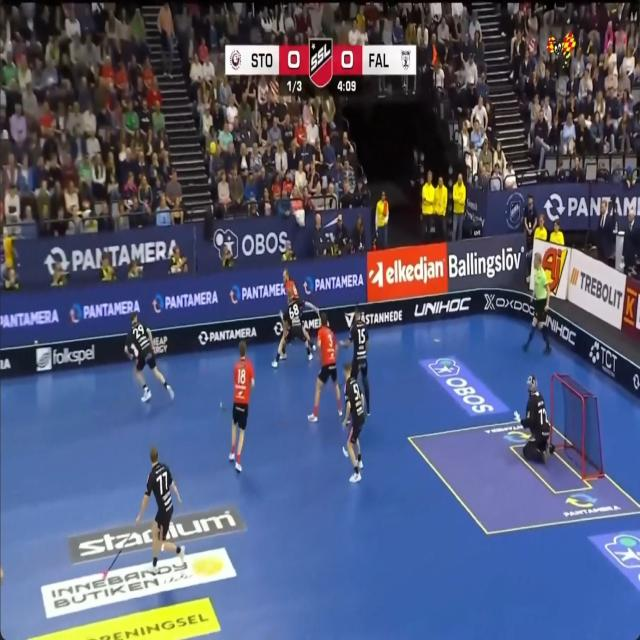player: (136, 445, 184, 572), (124, 312, 174, 401), (308, 312, 342, 422), (514, 375, 554, 463), (229, 341, 254, 472), (340, 308, 370, 414), (272, 290, 312, 368), (523, 252, 551, 352), (343, 363, 364, 482)
stick: (102, 554, 117, 577), (118, 536, 129, 556), (129, 531, 133, 539)
